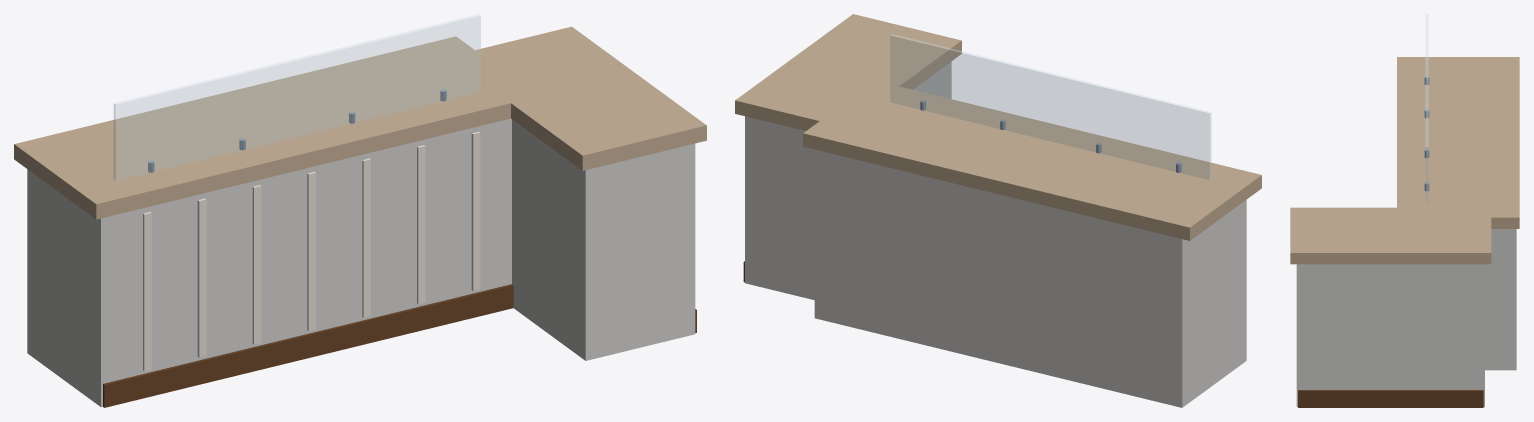
File: reception_counter.glb
3 renders of one model, left to right at view 1: azimuth 30°, elevation 25°; view 2: azimuth 150°, elevation 25°; view 3: azimuth 270°, elevation 25°, orthographic. The views are drawn at different scales.
Visible parts, largest first — view 1: CounterBody, CounterWing, CounterTop, AcrylicGuard, object 2, Flute_1, Flute_2, Flute_6, Flute_4, Flute_0, Flute_3, Flute_5; view 2: CounterBody, CounterTop, CounterWing, AcrylicGuard; view 3: CounterWing, CounterTop, CounterBody, AcrylicGuard.
Part boxes in pixels (left/top/right/bottom): CounterBody: left=27, top=118, right=511, bottom=407; CounterWing: left=449, top=26, right=706, bottom=360; CounterTop: left=14, top=36, right=537, bottom=219; AcrylicGuard: left=114, top=14, right=480, bottom=180; object 2: left=103, top=284, right=513, bottom=407; Flute_1: left=197, top=198, right=206, bottom=357; Flute_2: left=252, top=185, right=261, bottom=344; Flute_6: left=471, top=131, right=480, bottom=290; Flute_4: left=362, top=158, right=370, bottom=317; Flute_0: left=143, top=212, right=151, bottom=371; Flute_3: left=307, top=171, right=315, bottom=330; Flute_5: left=417, top=145, right=425, bottom=304; CounterBody: left=814, top=149, right=1246, bottom=407; CounterTop: left=803, top=80, right=1261, bottom=240; CounterWing: left=735, top=14, right=961, bottom=300; AcrylicGuard: left=890, top=34, right=1211, bottom=179; CounterWing: left=1290, top=207, right=1491, bottom=407; CounterTop: left=1397, top=57, right=1519, bottom=228; CounterBody: left=1485, top=229, right=1516, bottom=370; AcrylicGuard: left=1425, top=14, right=1428, bottom=203.
Bounding box in the file's own units: 2.95 × 1.5 × 1.46.
